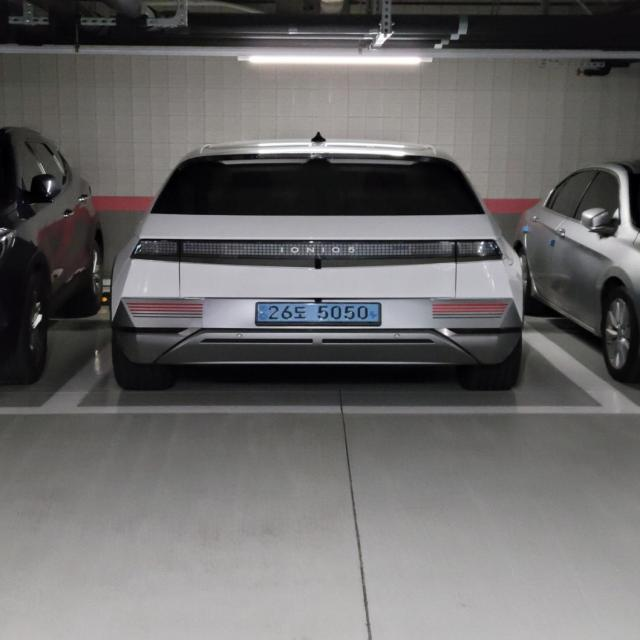EV_plate: (253, 298, 383, 331)
car: (108, 127, 528, 389)
